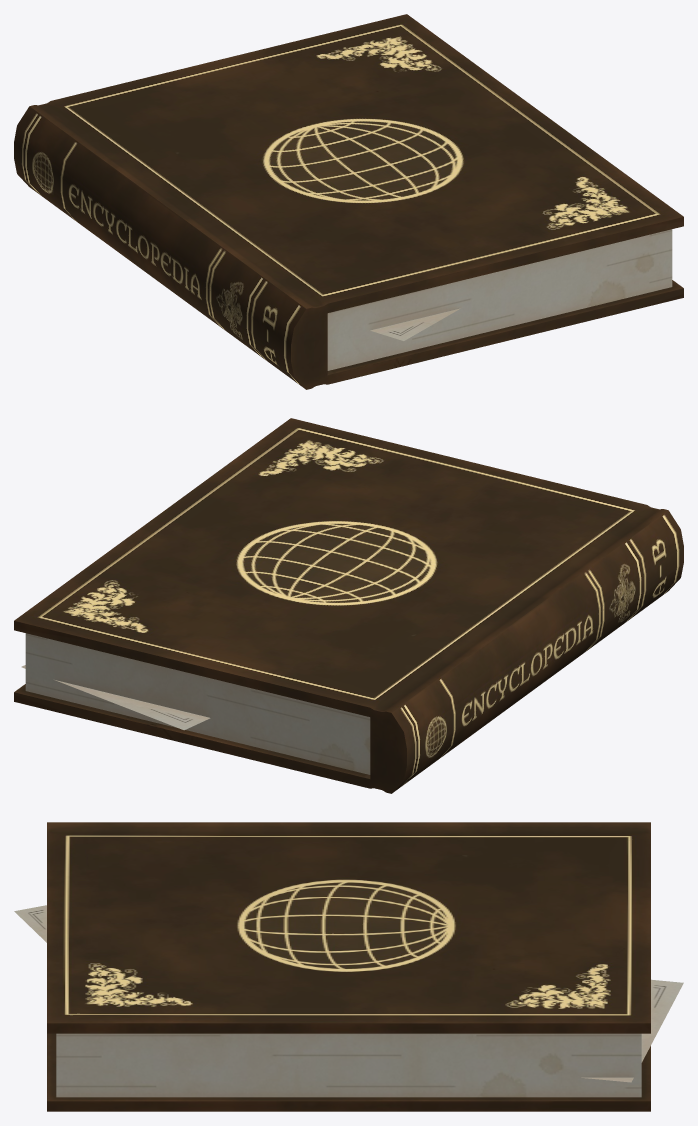
File: book.glb
3 renders of one model, top to bottom at view 1: azimuth 30°, elevation 25°; view 2: azimuth 150°, elevation 25°; view 3: azimuth 270°, elevation 25°, orthographic. The views are drawn at different scales.
Visible parts, largest first — view 1: Box001; view 2: Box001; view 3: Box001.
Part boxes in pixels (x1,y1,x2,y2): Box001: (14,14,683,389); Box001: (14,418,683,793); Box001: (14,822,683,1111).
Size of the model in its own units: 1.48 by 0.2909 by 2.
1 material, 1 textured.
